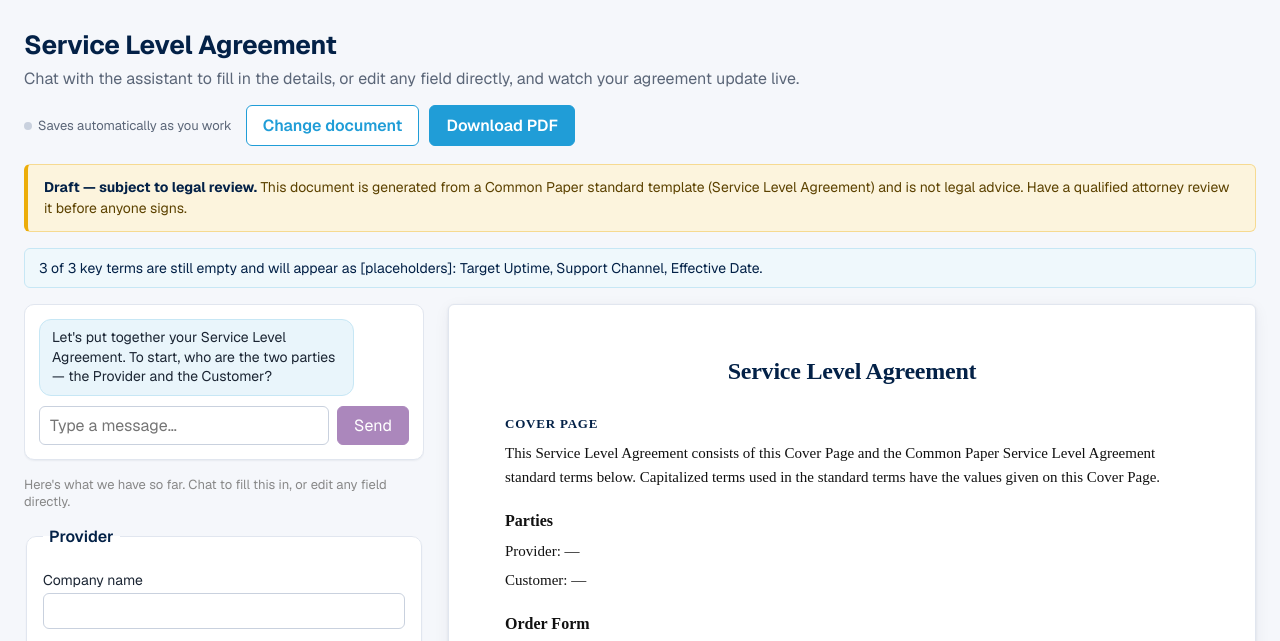
DocumentCreator › applies the assistant's updates to the form and preview, and highlights them
The image size is (1280, 641).
Expected: the 1st heading "Service Level Agreement" is shown, [24,28,336,62]
In the field labelled "message": [184, 425] box [39,406,329,445], type "Acme Cloud, 99.9% uptime"
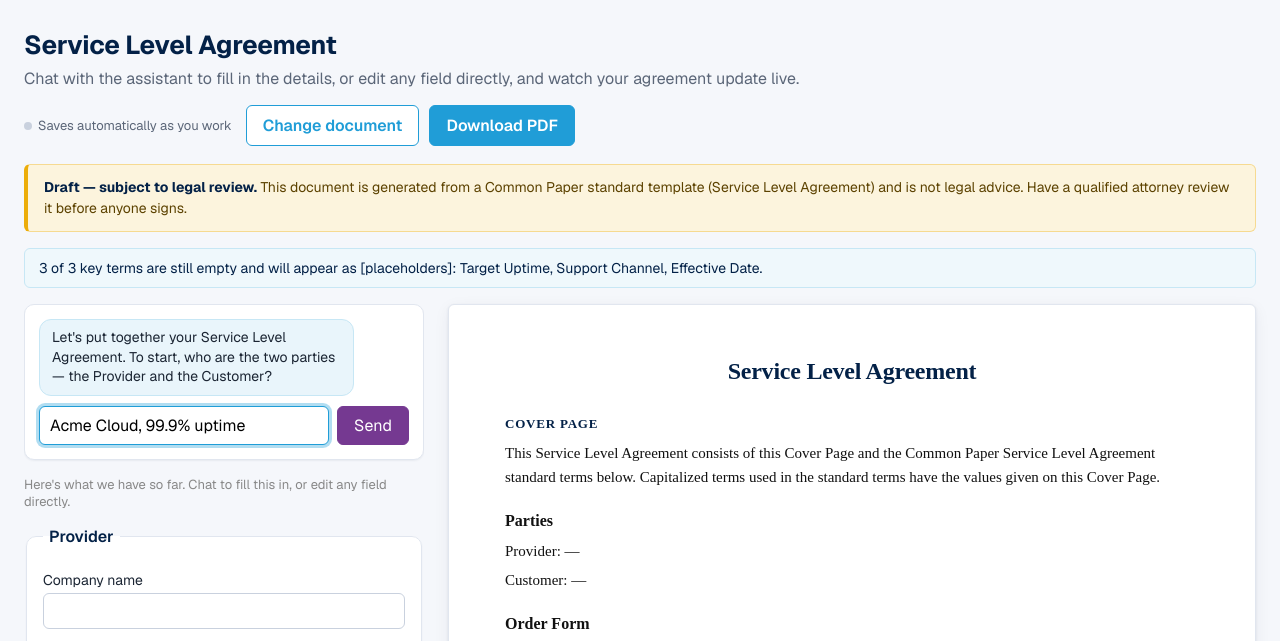
Click the button "Send": [373, 425] box [337,406,409,445]
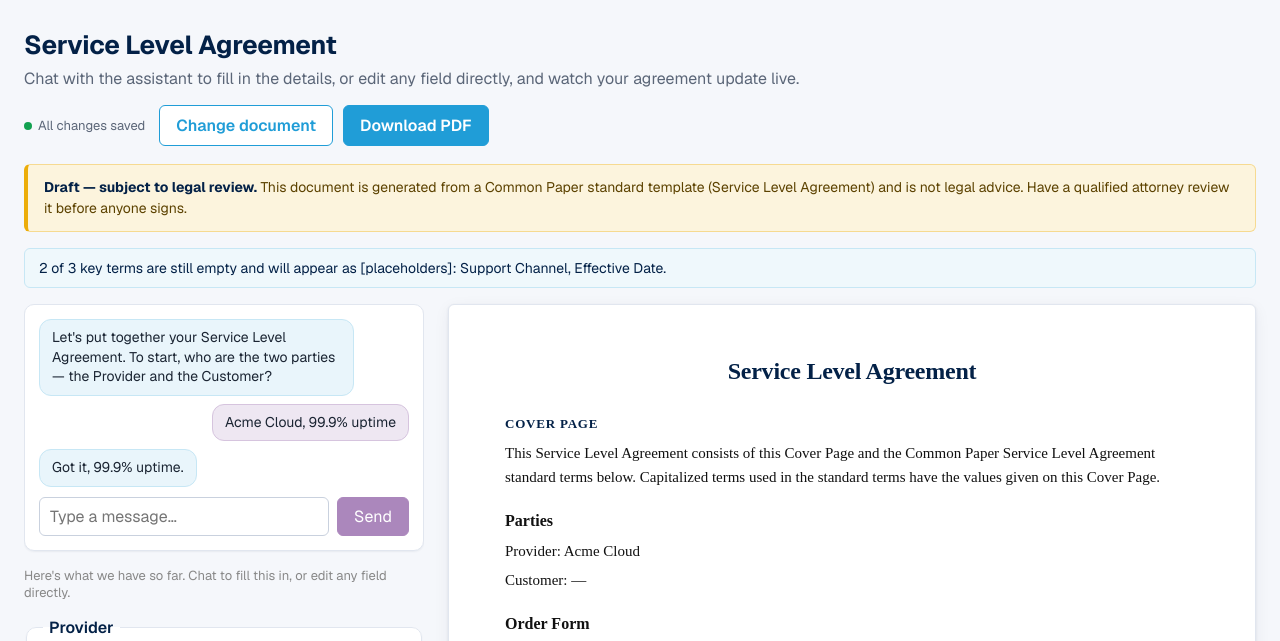
Result: the list item "Got it, 99.9% uptime." is shown at [39,449,196,487]
Result: the message shows "2 of 3 key terms are still empty" at [24,248,1256,288]
